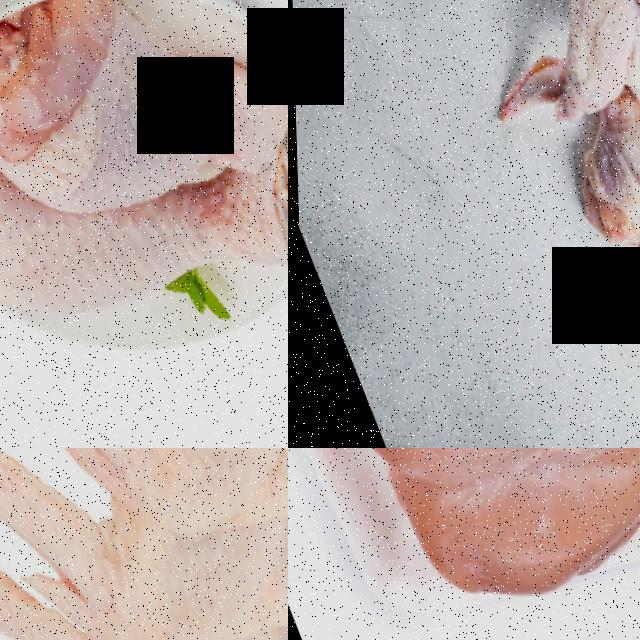chicken breast: (334, 448, 640, 640)
chicken thigh: (0, 0, 288, 258)
chicken wing: (0, 448, 288, 640), (0, 448, 288, 640), (441, 0, 640, 157), (542, 74, 640, 287), (589, 215, 640, 439)
